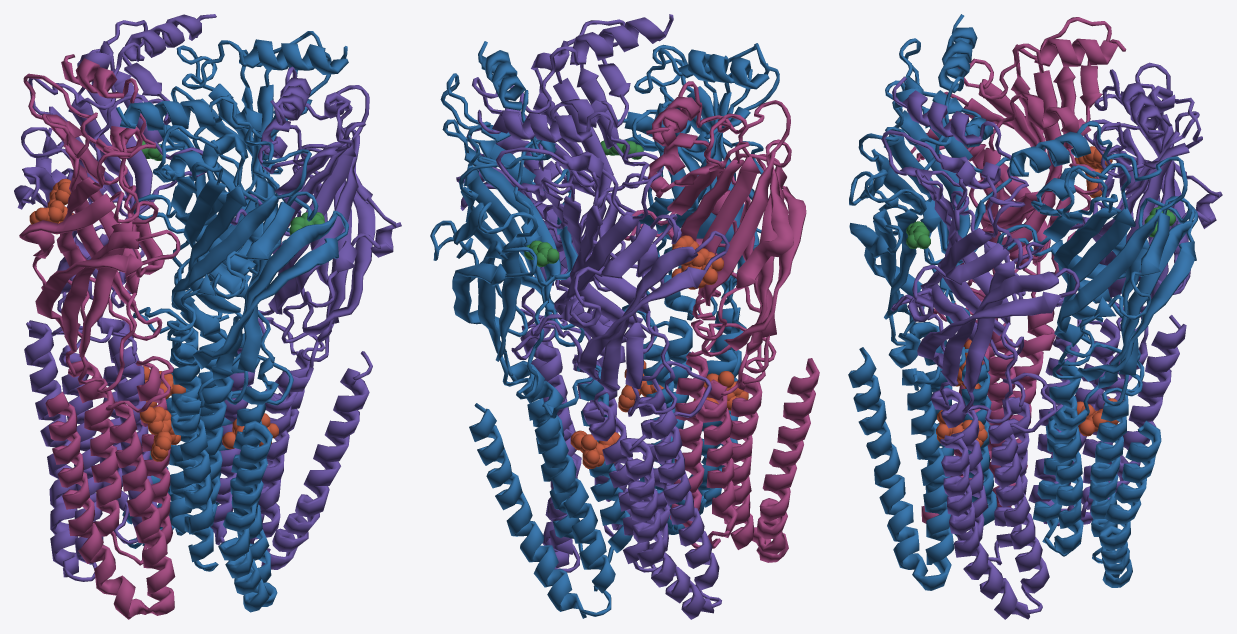
File: gabaa-diazepam-6x3x.glb
3 views of the same model, side by side, from view 1: azimuth 30°, elevation 25°; view 2: azimuth 150°, elevation 25°; view 3: azimuth 270°, elevation 25° (orthographic).
Visible parts, largest first — view 1: receptor2, receptor, receptor3, ligand, ligand2; view 2: receptor, receptor2, receptor3, ligand, ligand2; view 3: receptor2, receptor, receptor3, ligand, ligand2.
Part boxes in pixels (x1=…): receptor2: x1=116, y1=31, x2=348, y2=612; receptor: x1=14, y1=14, x2=401, y2=581; receptor3: x1=19, y1=54, x2=180, y2=619; ligand: x1=29, y1=178, x2=278, y2=461; ligand2: x1=136, y1=140, x2=324, y2=235; receptor: x1=456, y1=14, x2=729, y2=619; receptor2: x1=430, y1=41, x2=779, y2=618; receptor3: x1=624, y1=81, x2=819, y2=562; ligand: x1=570, y1=235, x2=748, y2=468; ligand2: x1=524, y1=138, x2=643, y2=266; receptor2: x1=848, y1=14, x2=1197, y2=590; receptor: x1=881, y1=62, x2=1222, y2=619; receptor3: x1=910, y1=17, x2=1126, y2=523; ligand: x1=936, y1=146, x2=1119, y2=446; ligand2: x1=906, y1=206, x2=1175, y2=248.
Bounding box in the file's own units: 7.49 × 11.27 × 7.39.
